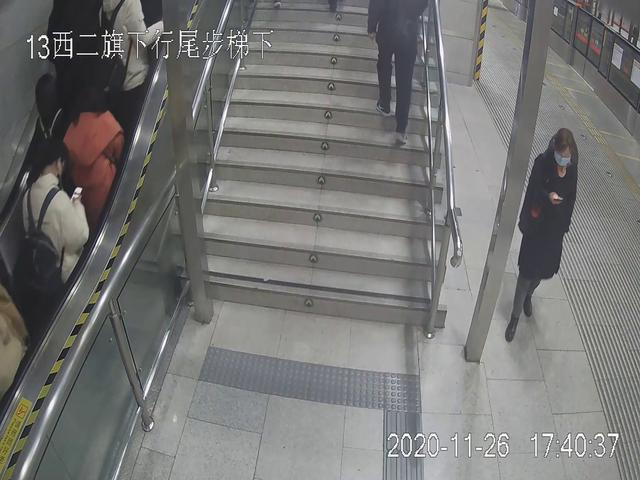person: (504, 124, 582, 341), (8, 135, 89, 328), (355, 1, 427, 144)
